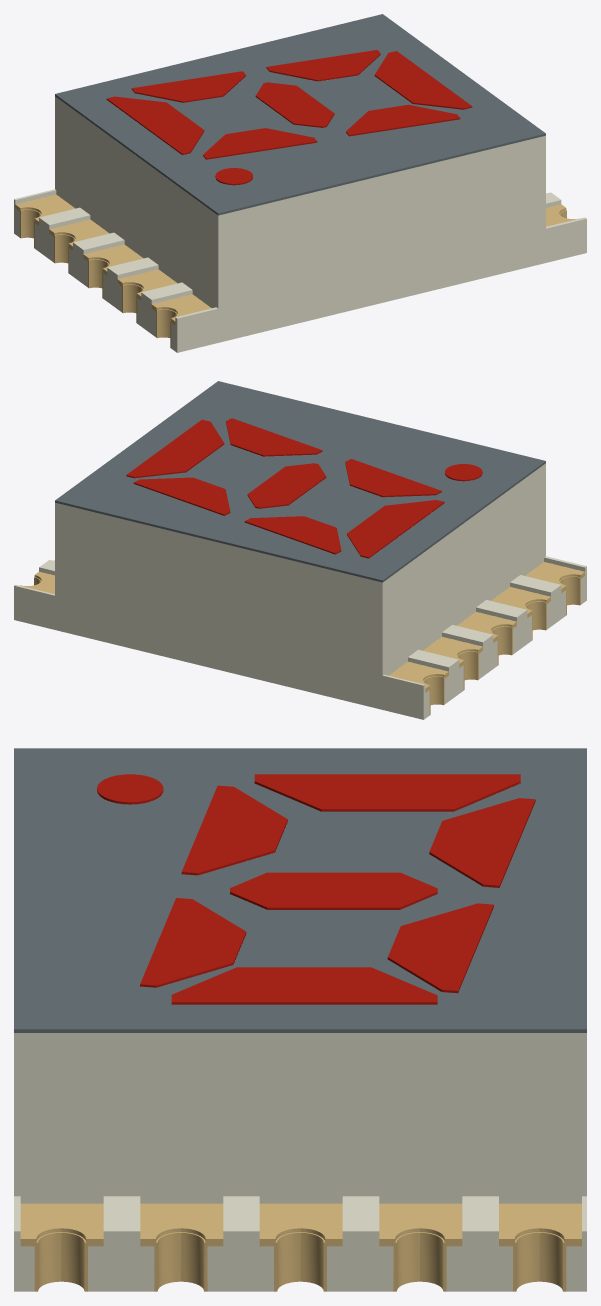
The model's file is kc-kcsc02-105.glb.
The picture shows the model from 3 angles, top to bottom: view 1: azimuth 30°, elevation 25°; view 2: azimuth 150°, elevation 25°; view 3: azimuth 270°, elevation 25°; orthographic projection. The views are drawn at different scales.
Visible parts, largest first — view 1: 0.75_0.75_0.6666666666666666_0, 0.16666666666666666_0.16666666666666666_0.16666666666666666_, 0.4166666666666667_0_0_0, 0.75_0.5_0.25_0.9; view 2: 0.75_0.75_0.6666666666666666_0, 0.16666666666666666_0.16666666666666666_0.16666666666666666_, 0.4166666666666667_0_0_0, 0.75_0.5_0.25_0.9; view 3: 0.75_0.75_0.6666666666666666_0, 0.16666666666666666_0.16666666666666666_0.16666666666666666_, 0.4166666666666667_0_0_0, 0.75_0.5_0.25_0.9.
Boxes of the visible parts, <box> form: 0.75_0.75_0.6666666666666666_0: <box>14,96,586,352</box>; 0.16666666666666666_0.16666666666666666_0.16666666666666666_: <box>55,14,545,215</box>; 0.4166666666666667_0_0_0: <box>106,50,472,185</box>; 0.75_0.5_0.25_0.9: <box>15,194,578,348</box>; 0.75_0.75_0.6666666666666666_0: <box>14,463,586,719</box>; 0.16666666666666666_0.16666666666666666_0.16666666666666666_: <box>55,381,545,582</box>; 0.4166666666666667_0_0_0: <box>126,418,482,558</box>; 0.75_0.5_0.25_0.9: <box>20,560,584,715</box>; 0.75_0.75_0.6666666666666666_0: <box>14,1033,586,1291</box>; 0.16666666666666666_0.16666666666666666_0.16666666666666666_: <box>14,748,586,1032</box>; 0.4166666666666667_0_0_0: <box>97,774,535,1004</box>; 0.75_0.5_0.25_0.9: <box>20,1203,581,1291</box>.
Bounding box in the file's own units: 1 × 0.305 × 0.69.
